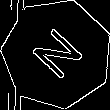N_SE: (25, 22, 89, 86)
